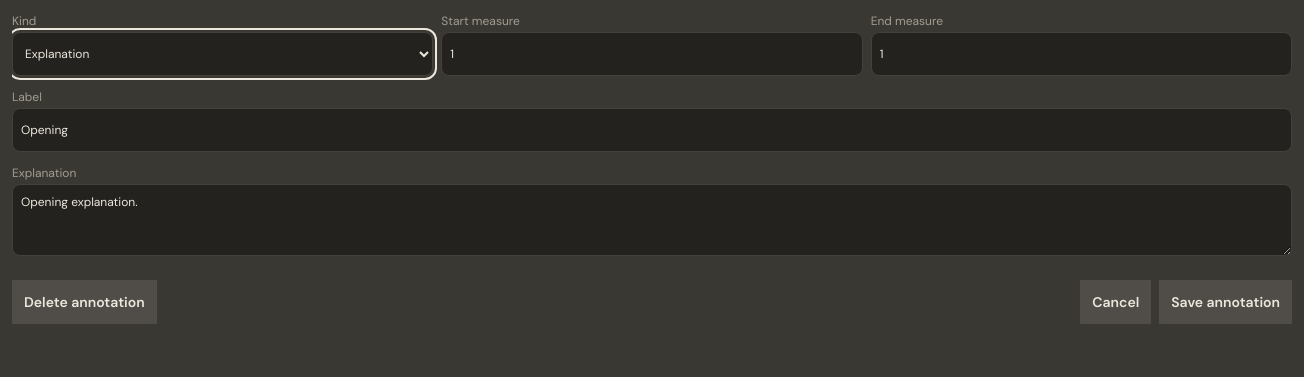
Test: AnnotationEditor › keeps delete failures inline
This screenshot has width=1304, height=377.
Click the button "Delete annotation" at (84, 302), box [12,280,157,324]
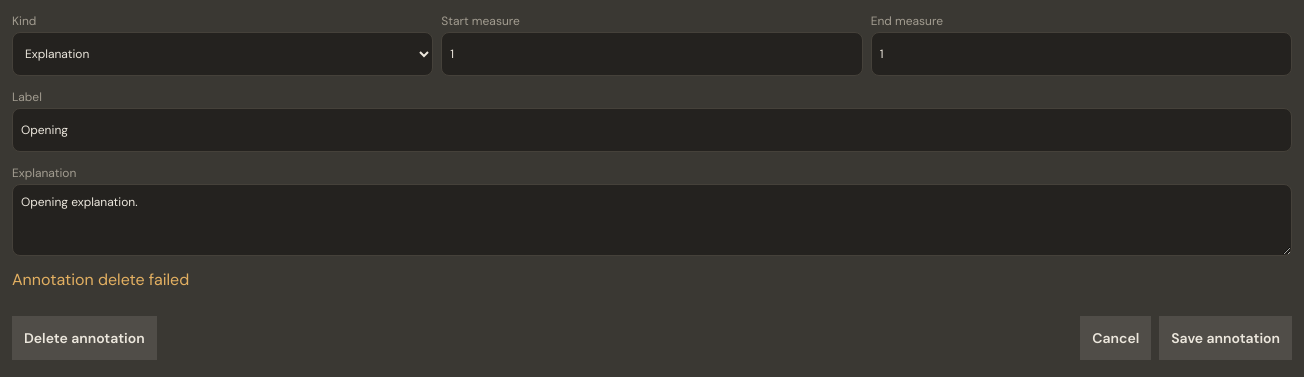
Result: the message reads "Annotation delete failed" at [12,269,189,290]
